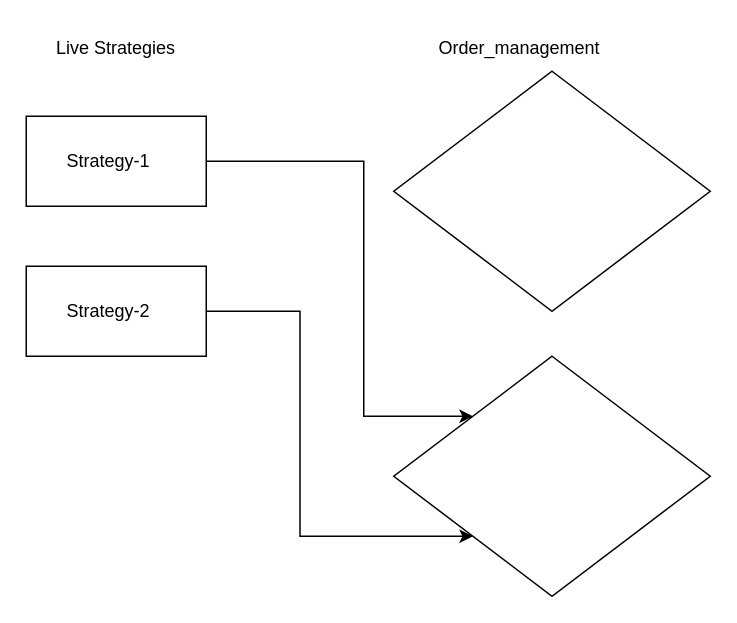
Some shapes in this 737 by 623 pixel diagram are drawn without their labels. Each missing label, with the centre of its shape:
forward_testing_order_management: the point at 551,190
Real_order_management: the point at 551,475
